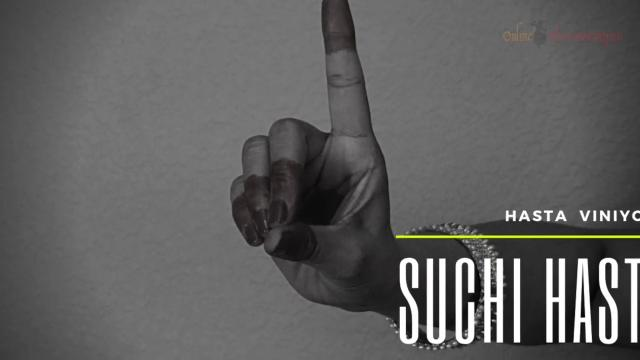soochi: (212, 0, 416, 348)
